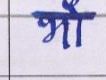au_matra: (65, 1, 89, 47)
